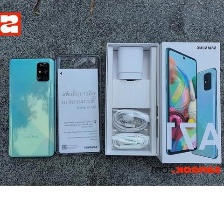book: (100, 39, 163, 160), (53, 65, 104, 156)
carton: (157, 38, 224, 166)
phone: (5, 55, 58, 160)
